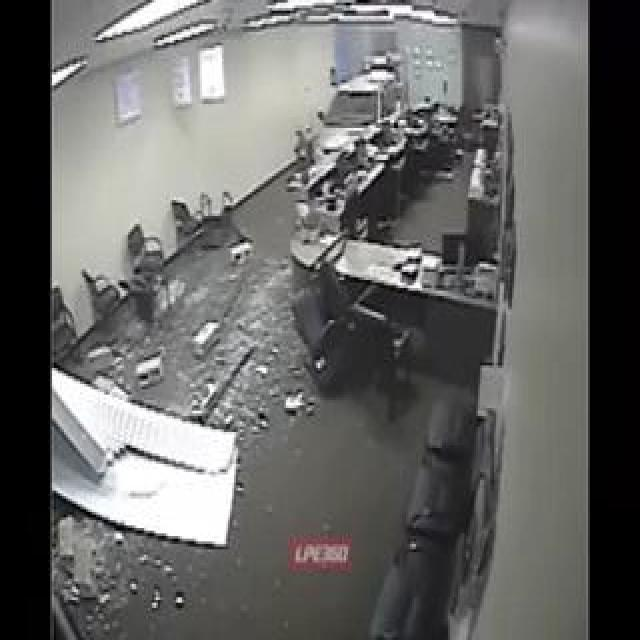thief: (319, 58, 347, 124)
